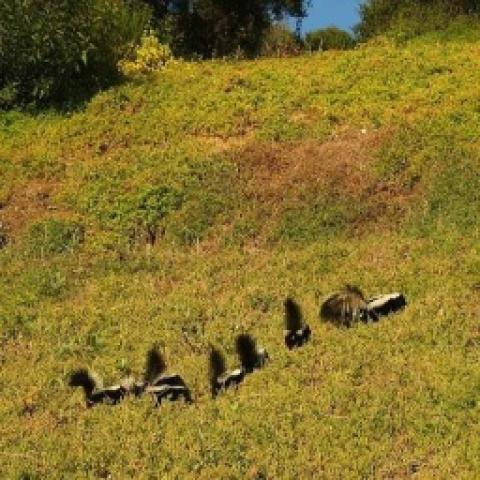small_animal: (131, 341, 196, 406), (67, 368, 129, 415), (210, 342, 244, 400), (235, 330, 272, 380), (315, 290, 363, 327), (361, 290, 408, 326), (283, 296, 312, 352)
